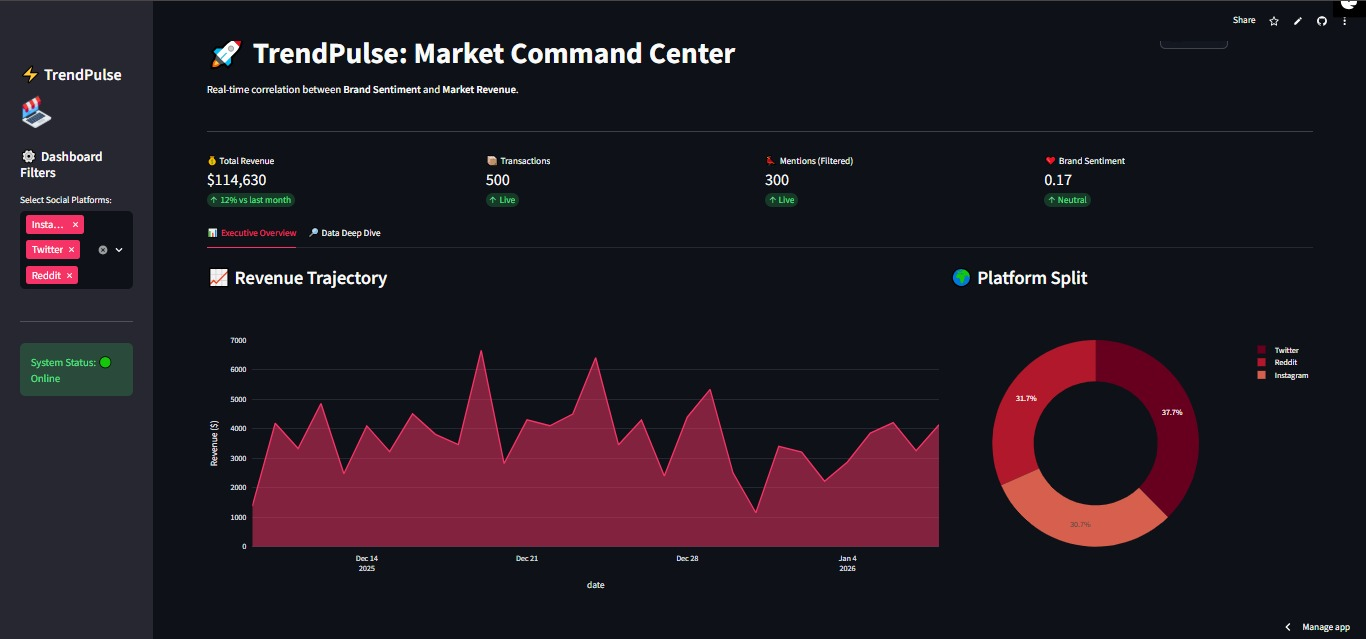

This screenshot's page, from the dashboard's own definition file:
{"tool":"powerbi","page":{"name":"Page 1","canvas":[1280,720],"ordinal":0},"visuals":[{"type":"card","fields":{"Values":["Sum(powerbi_sales.total_revenue)"]},"box":[0,80,352,176],"z":0},{"type":"card","fields":{"Values":["Avg(powerbi_social.sentiment_score)"]},"box":[352,80,352,176],"z":1},{"type":"lineClusteredColumnComboChart","title":"Daily Revenue vs. Brand Sentiment","fields":{"Category":["powerbi_sales.date"],"Y":["Sum(powerbi_sales.total_revenue)"],"Y2":["Avg(powerbi_social.sentiment_score)"]},"box":[0,256,704,464],"z":2},{"type":"donutChart","title":"Social Buzz by Platform","fields":{"Category":["powerbi_social.platform"],"Y":["CountNonNull(powerbi_social.content)"]},"box":[704,80,576,288],"z":3},{"type":"treemap","title":"Top Selling Products","fields":{"Group":["powerbi_sales.product_id"],"Values":["Sum(powerbi_sales.total_revenue)"]},"box":[704,368,576,352],"z":4},{"type":"textbox","box":[160,0,944,64],"z":5}]}

Visuals, with their boxes on the page's 1280x720 design canvas (x1, y1, x2, y2). These are canvas units, not pixel positions in the 1366x639 screenshot, which may show the page scaled, cropped or inside an application window:
card - Sum(powerbi_sales.total_revenue): l=0, t=80, r=352, b=256
card - Avg(powerbi_social.sentiment_score): l=352, t=80, r=704, b=256
"Daily Revenue vs. Brand Sentiment" lineClusteredColumnComboChart: l=0, t=256, r=704, b=720
"Social Buzz by Platform" donutChart: l=704, t=80, r=1280, b=368
"Top Selling Products" treemap: l=704, t=368, r=1280, b=720
textbox: l=160, t=0, r=1104, b=64
